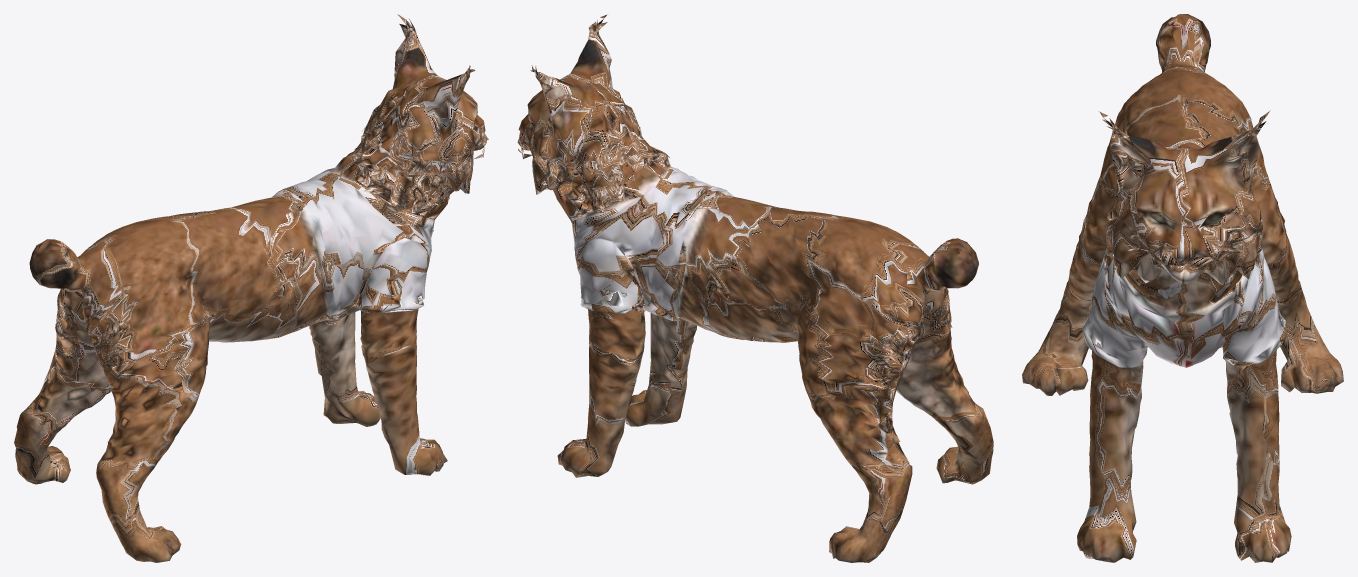
File: BUBSYCAT-lo.glb
3 renders of one model, left to right at view 1: azimuth 30°, elevation 25°; view 2: azimuth 150°, elevation 25°; view 3: azimuth 270°, elevation 25°, orthographic. The views are drawn at different scales.
Parts seen in each view (by area): view 1: tripo_node_b6b85491-0d62-4cbe-a86d-883aceceed90; view 2: tripo_node_b6b85491-0d62-4cbe-a86d-883aceceed90; view 3: tripo_node_b6b85491-0d62-4cbe-a86d-883aceceed90.
Boxes of the visible parts, bbox=[...] form: tripo_node_b6b85491-0d62-4cbe-a86d-883aceceed90: bbox=[14, 14, 488, 562]; tripo_node_b6b85491-0d62-4cbe-a86d-883aceceed90: bbox=[517, 14, 993, 562]; tripo_node_b6b85491-0d62-4cbe-a86d-883aceceed90: bbox=[1022, 14, 1343, 562].
Size of the model in its own units: 1.19 by 0.9952 by 0.6154.
Materials: 1 (1 with a texture image).
